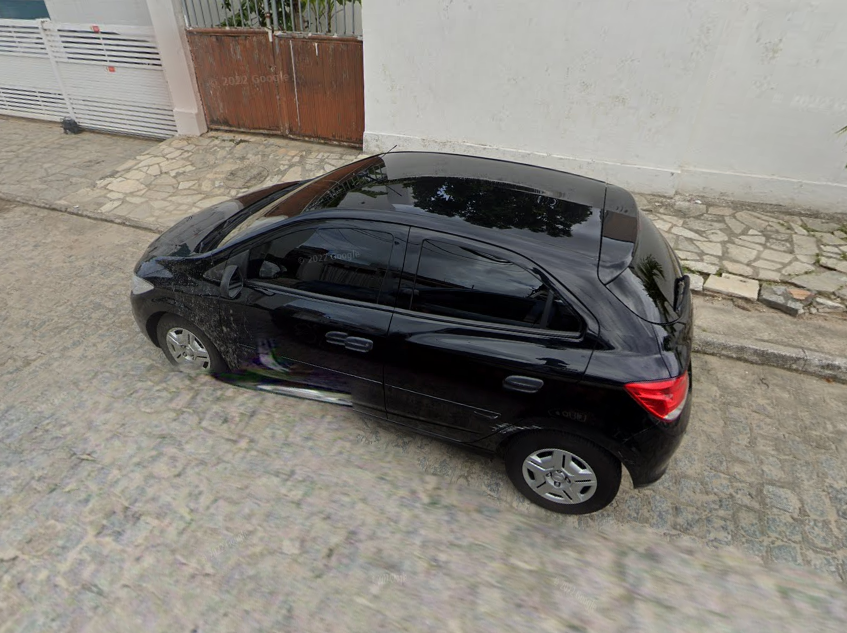car: (126, 147, 697, 519)
